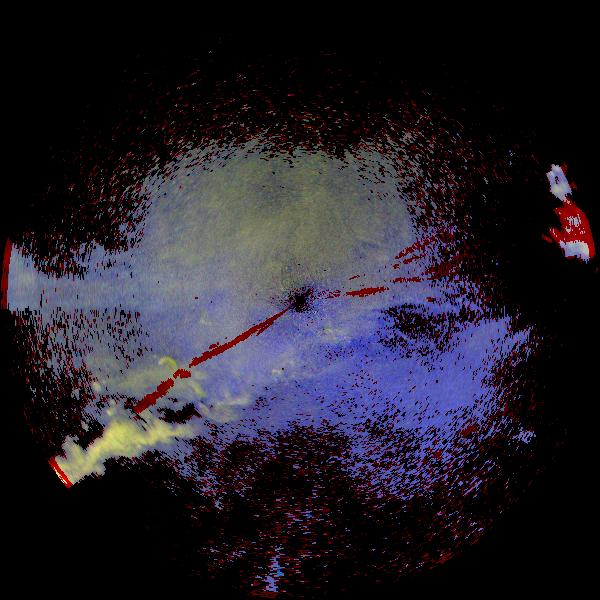roost: (142, 346, 190, 394)
